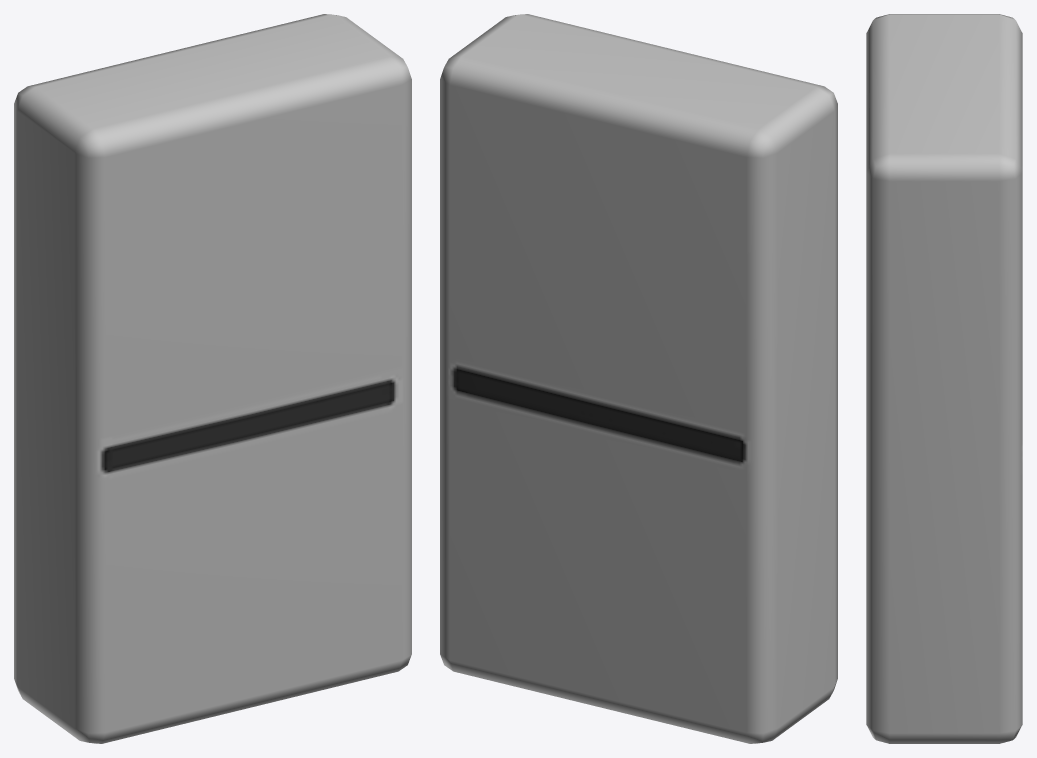
The model's file is 0-domino_00.fbx.
The picture shows the model from 3 angles, left to right: view 1: azimuth 30°, elevation 25°; view 2: azimuth 150°, elevation 25°; view 3: azimuth 270°, elevation 25°; orthographic projection. The views are drawn at different scales.
Visible parts, largest first — view 1: 0-domino_00; view 2: 0-domino_00; view 3: 0-domino_00.
Boxes of the visible parts, box(x1,y1,x2,y2) form: 0-domino_00: box(14, 14, 411, 743); 0-domino_00: box(440, 14, 837, 743); 0-domino_00: box(866, 14, 1022, 743).
Size of the model in its own units: 53.91 by 94.68 by 22.78.
